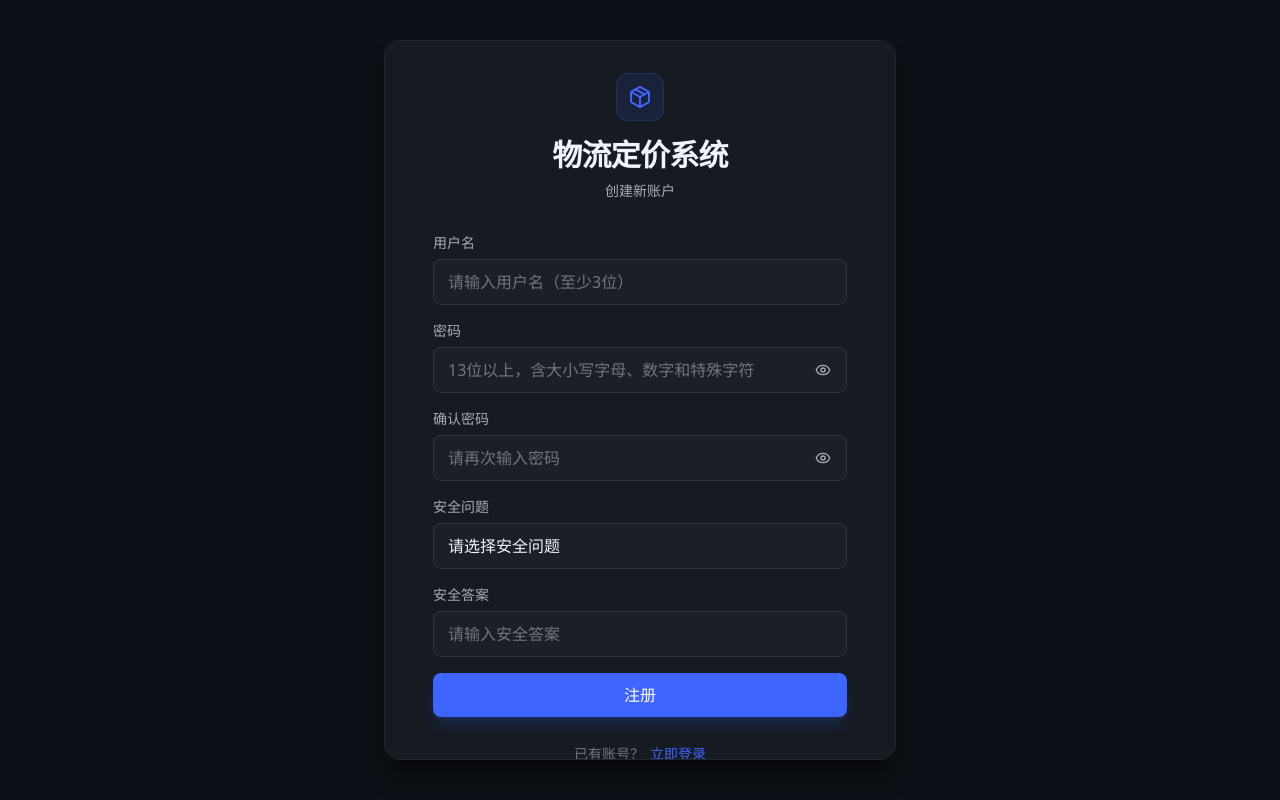
Scenario: RegisterPage › renders password strength indicator when password is typed
The image size is (1280, 800).
Type "weakpass" into the password field with placeholder "13位以上，含大小写字母、数字和特殊字符" at coordinates (640, 370), box [433,347,847,393]
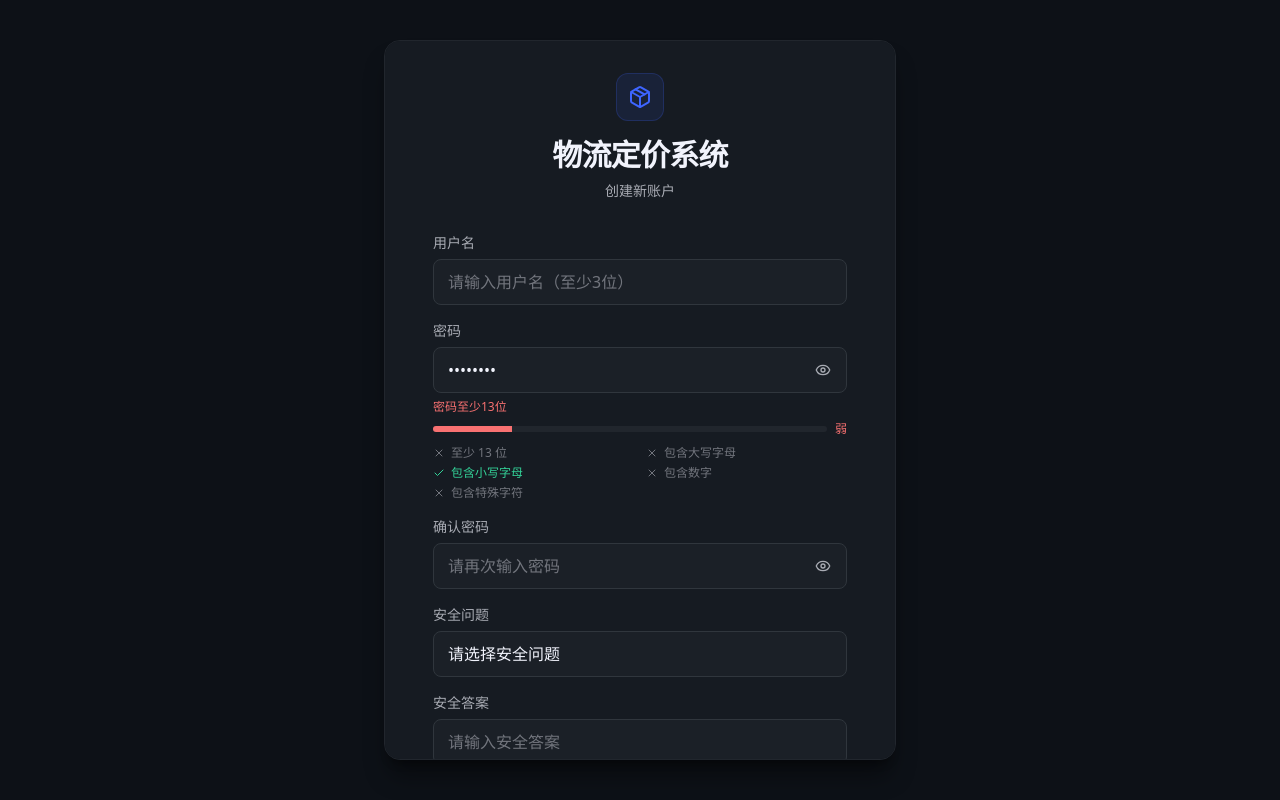
Expected: the element with test id "password-strength" is shown, [433,421,847,501]
Expected: the text "弱" is shown, [835,421,847,437]
